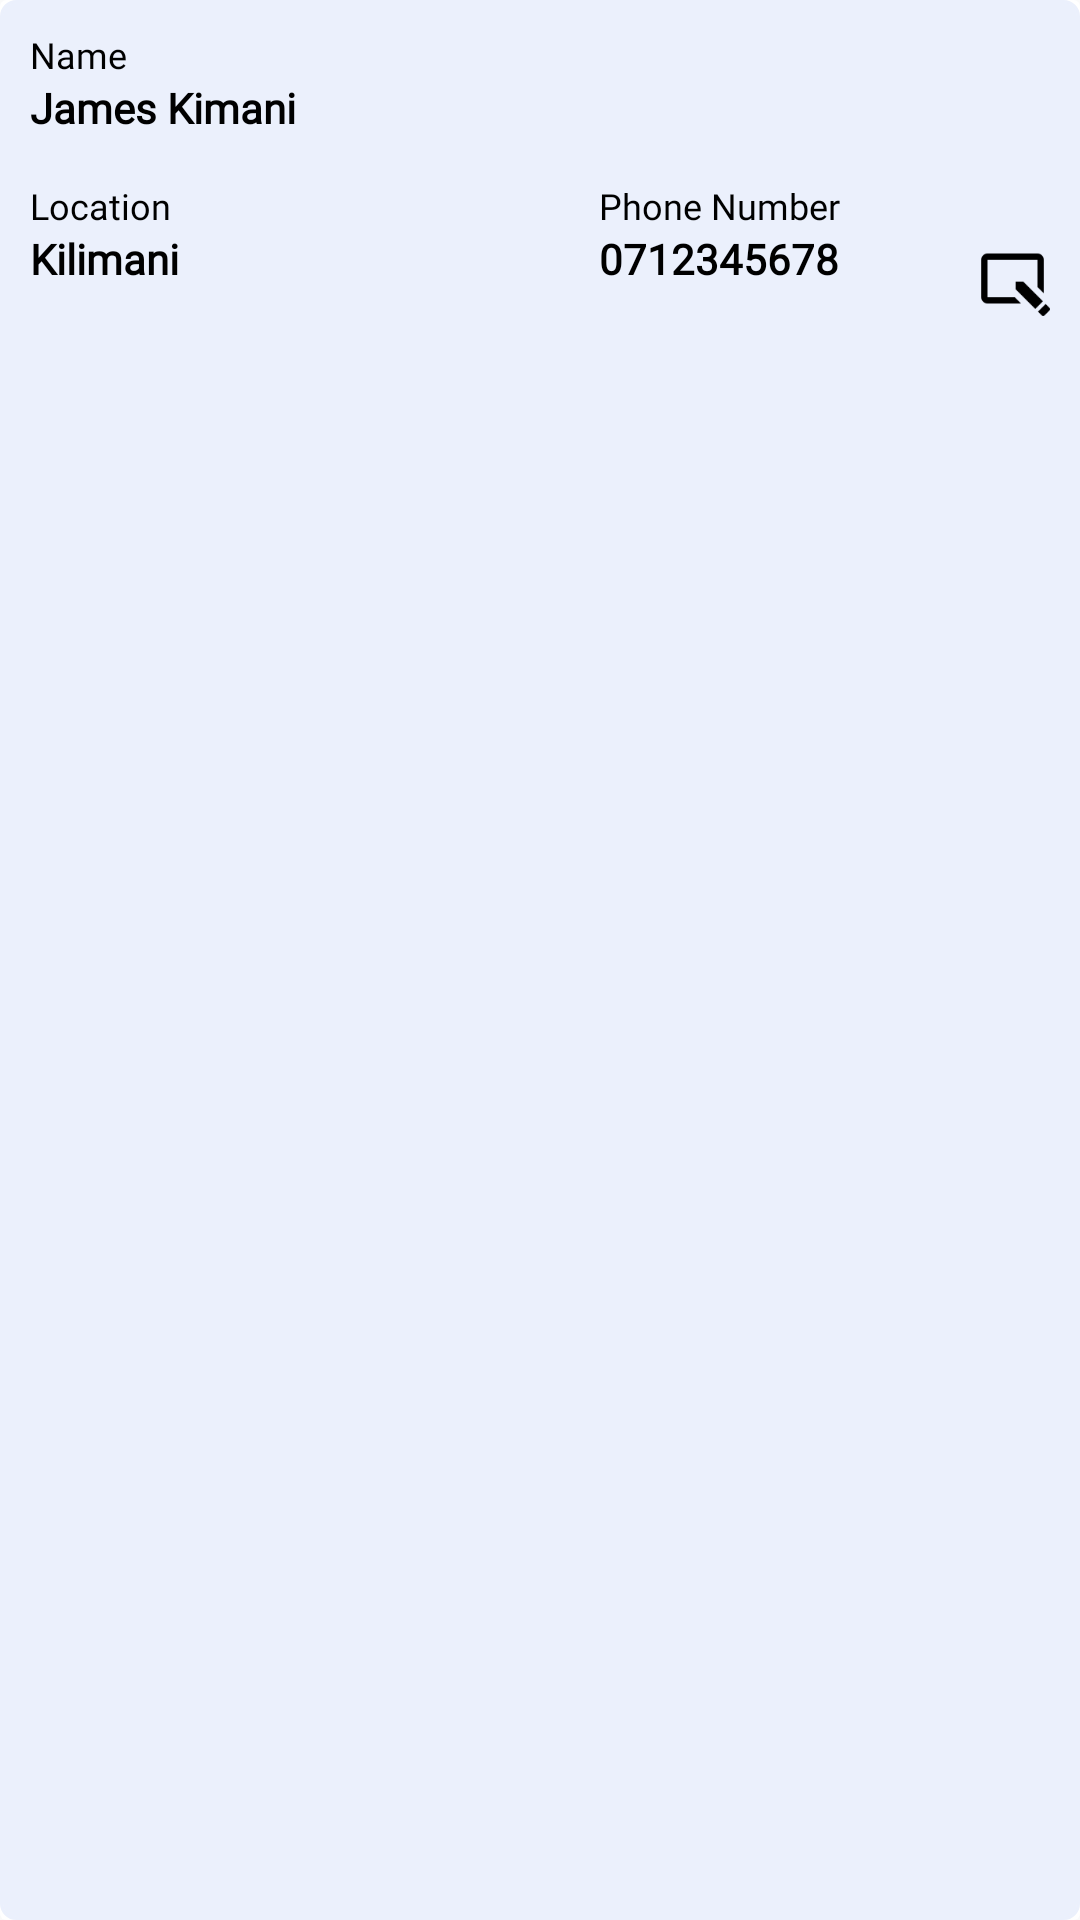

Icon bounding boxes for this 1080*1920 phone screenshot, format region(x1, y1, x2, y2):
edit: region(981, 253, 1050, 316)
